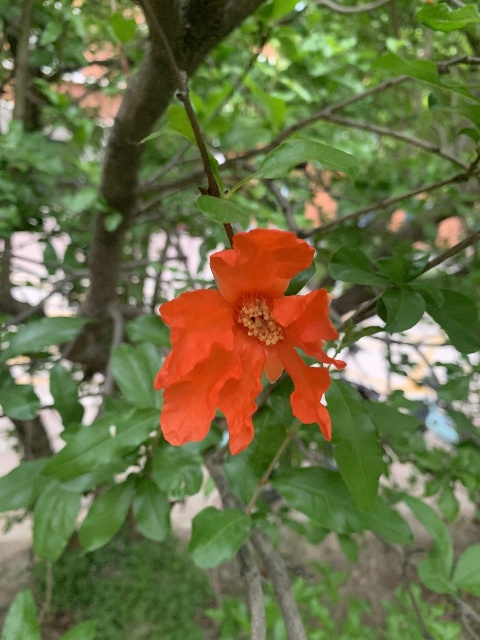flower: (152, 224, 345, 454)
